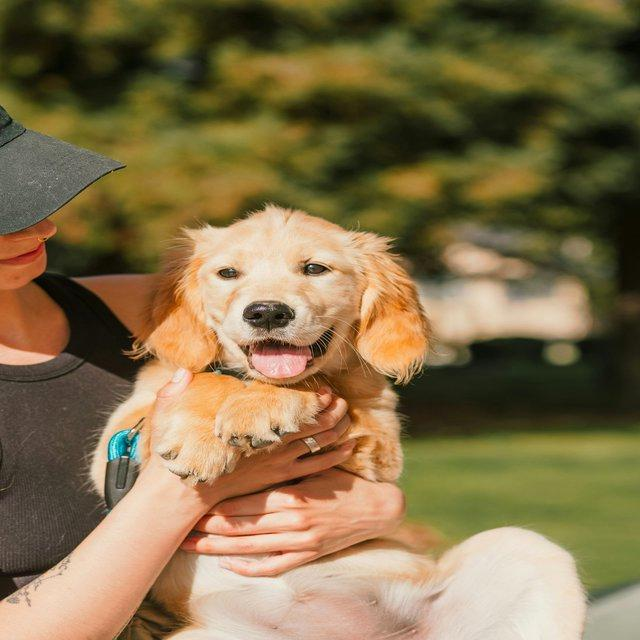retriever: (83, 202, 589, 638)
